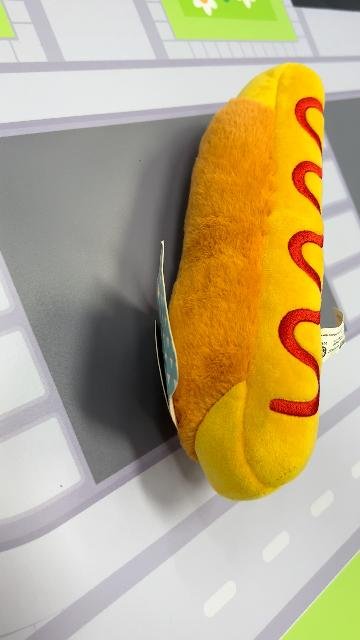hotdog: (163, 61, 329, 503)
